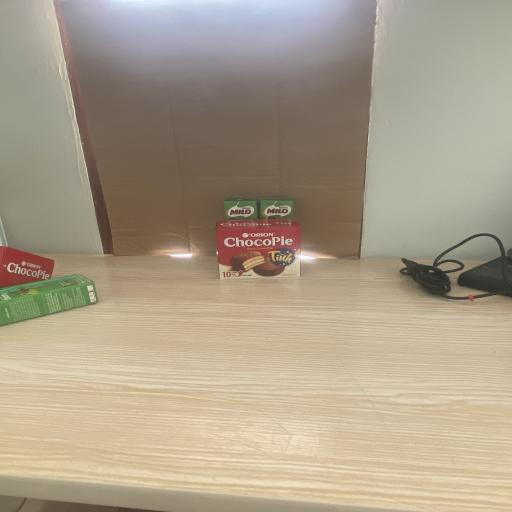chocopie: (216, 219, 301, 279)
milo: (222, 198, 257, 219), (258, 198, 294, 218)
